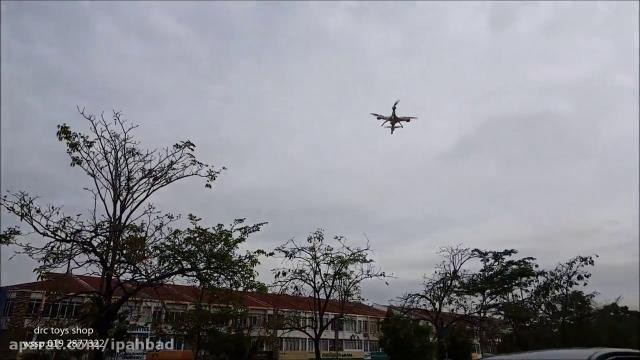drone: (368, 99, 418, 135)
